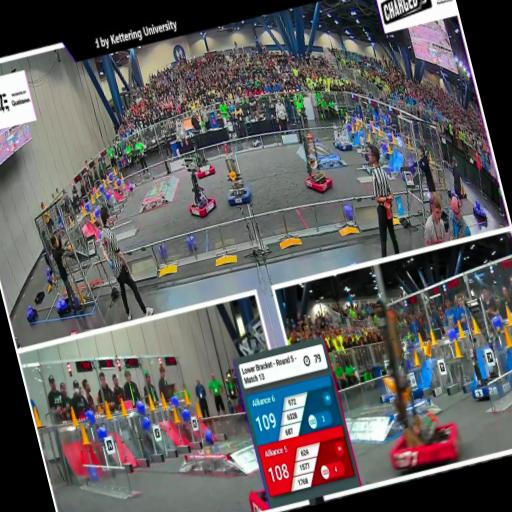robot: (351, 280, 465, 474), (451, 291, 512, 403), (372, 340, 428, 410), (292, 126, 336, 197), (216, 150, 254, 210), (179, 166, 219, 222), (184, 131, 218, 180), (241, 475, 273, 512), (328, 116, 358, 154), (356, 143, 376, 178)
